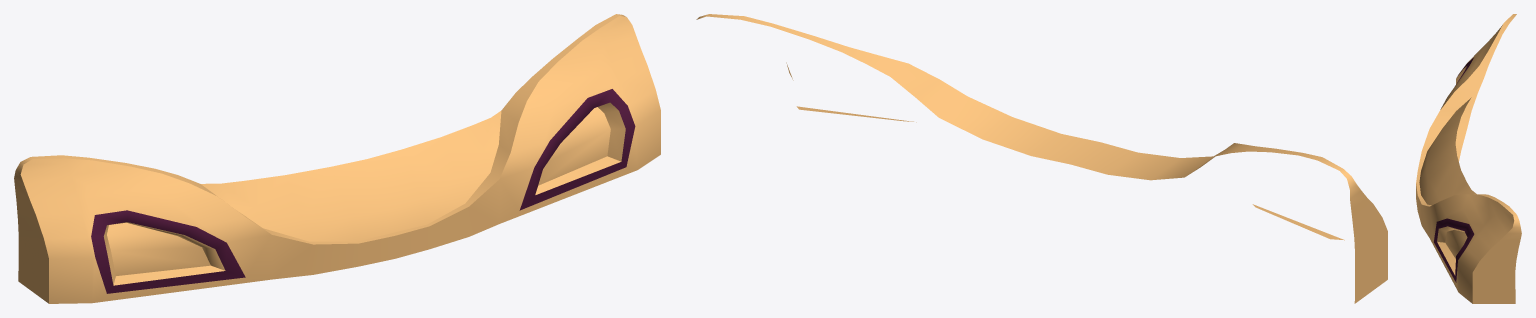
The model's file is LuxBumper01C05.gltf.
The picture shows the model from 3 angles, left to right: view 1: azimuth 30°, elevation 25°; view 2: azimuth 150°, elevation 25°; view 3: azimuth 270°, elevation 25°; orthographic projection. The views are drawn at different scales.
Visible parts, largest first — view 1: LuxBumper01C05; view 2: LuxBumper01C05; view 3: LuxBumper01C05.
Boxes of the visible parts, x1,y1,x2,y2 form: LuxBumper01C05: [14, 14, 660, 303]; LuxBumper01C05: [696, 14, 1387, 303]; LuxBumper01C05: [1416, 14, 1521, 303].
Size of the model in its own units: 0.1738 by 0.0328 by 0.0371.
Materials: 1 (1 with a texture image).
